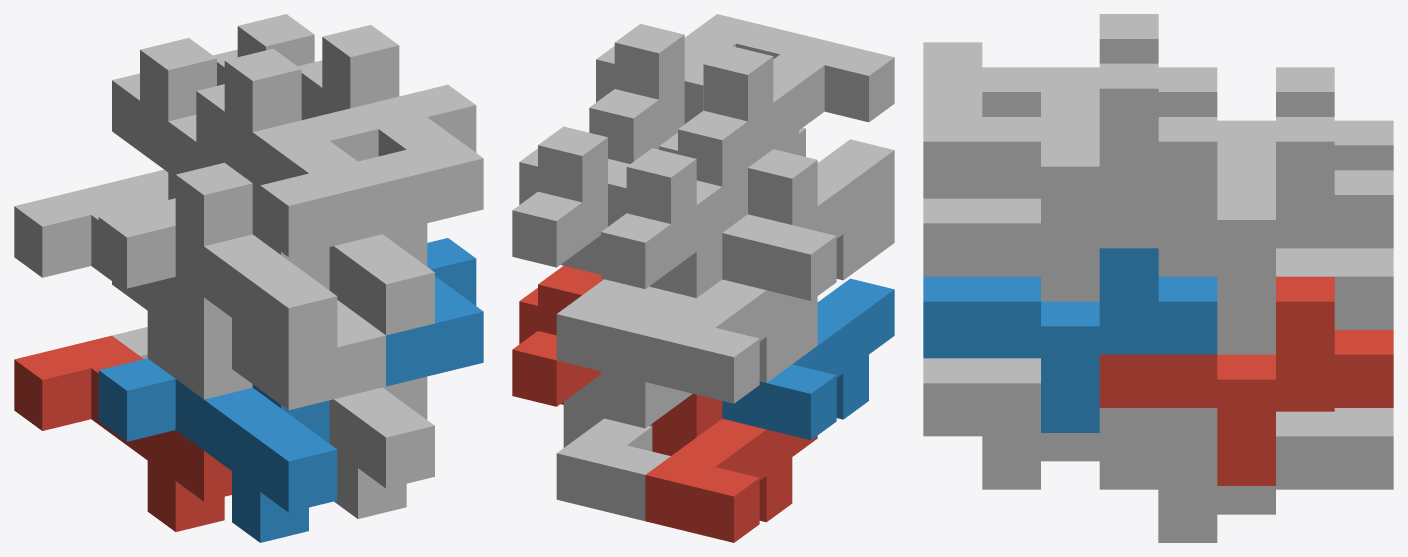
Rendered from tiling.obj.
3 renders of one model, left to right at view 1: azimuth 30°, elevation 25°; view 2: azimuth 150°, elevation 25°; view 3: azimuth 270°, elevation 25°, orthographic. The views are drawn at different scales.
Parts seen in each view (by area): view 1: copy_2_domain_4, copy_1_domain_2, copy_1_domain_4, copy_2_domain_8, copy_2_domain_3, copy_1_domain_1, copy_1_domain_3, copy_1_domain_6, copy_1_domain_8, copy_2_domain_6, copy_2_domain_2, copy_2_domain_1 (+3 smaller); view 2: copy_2_domain_4, copy_2_domain_3, copy_1_domain_1, copy_1_domain_3, copy_1_domain_4, copy_2_domain_8, copy_1_domain_2, copy_2_domain_7, copy_1_domain_5, copy_1_domain_7, copy_2_domain_5, copy_2_domain_1 (+1 smaller); view 3: copy_2_domain_8, copy_2_domain_6, copy_2_domain_7, copy_2_domain_5, copy_1_domain_5, copy_1_domain_6, copy_2_domain_4, copy_1_domain_8, copy_2_domain_3, copy_1_domain_7, copy_1_domain_2.
Boxes of the visible parts, <box> form: copy_2_domain_4: <box>196,48,385,256</box>; copy_1_domain_2: <box>98,358,337,542</box>; copy_1_domain_4: <box>98,183,337,389</box>; copy_2_domain_8: <box>298,25,483,233</box>; copy_2_domain_3: <box>112,38,252,246</box>; copy_1_domain_1: <box>14,335,231,531</box>; copy_1_domain_3: <box>14,173,231,378</box>; copy_1_domain_6: <box>329,376,434,518</box>; copy_1_domain_8: <box>329,223,434,335</box>; copy_2_domain_6: <box>386,238,483,386</box>; copy_2_domain_2: <box>260,300,385,410</box>; copy_2_domain_1: <box>112,196,252,399</box>; copy_2_domain_4: <box>678,35,894,186</box>; copy_2_domain_3: <box>601,148,817,289</box>; copy_1_domain_1: <box>645,393,817,542</box>; copy_1_domain_3: <box>645,233,817,403</box>; copy_1_domain_4: <box>722,130,894,300</box>; copy_2_domain_8: <box>589,14,805,163</box>; copy_1_domain_2: <box>722,278,894,440</box>; copy_2_domain_7: <box>512,126,677,267</box>; copy_1_domain_5: <box>556,374,670,520</box>; copy_1_domain_7: <box>556,235,670,381</box>; copy_2_domain_5: <box>512,265,603,406</box>; copy_2_domain_1: <box>601,287,817,428</box>; copy_2_domain_8: <box>923,63,1217,272</box>; copy_2_domain_6: <box>923,248,1217,432</box>; copy_2_domain_7: <box>1099,117,1393,326</box>; copy_2_domain_5: <box>1099,276,1393,485</box>; copy_1_domain_5: <box>1099,408,1393,542</box>; copy_1_domain_6: <box>923,358,1217,489</box>; copy_2_domain_4: <box>923,14,1217,116</box>; copy_1_domain_8: <box>923,198,1217,301</box>; copy_2_domain_3: <box>1217,67,1393,170</box>; copy_1_domain_7: <box>1217,248,1393,354</box>; copy_1_domain_2: <box>923,354,1040,358</box>.
Bounding box in the file's own units: 6 × 9 × 8.
